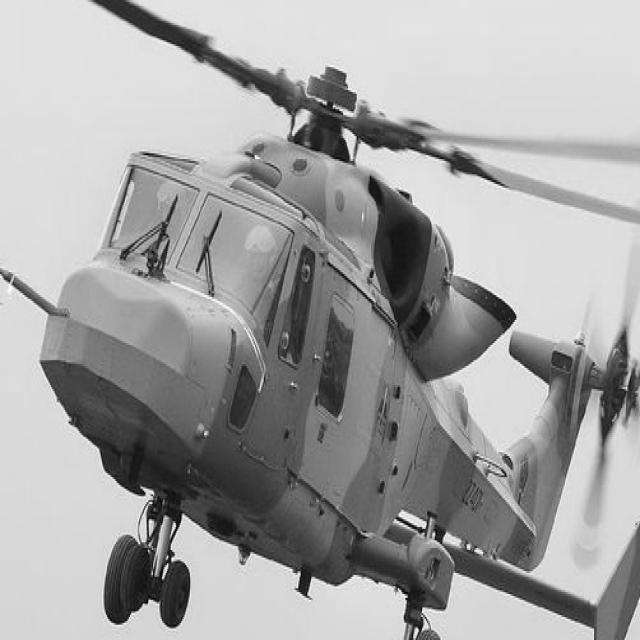helicopter: (1, 1, 640, 640)
